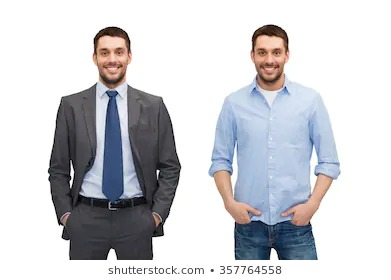C_jeans: (233, 210, 319, 258)
C_shirt: (210, 76, 339, 221)
F_M_suit jacket: (45, 80, 182, 224)
F_belt: (79, 195, 145, 205)
F_dress pants: (71, 204, 155, 259)
F_tie: (103, 87, 124, 203)
